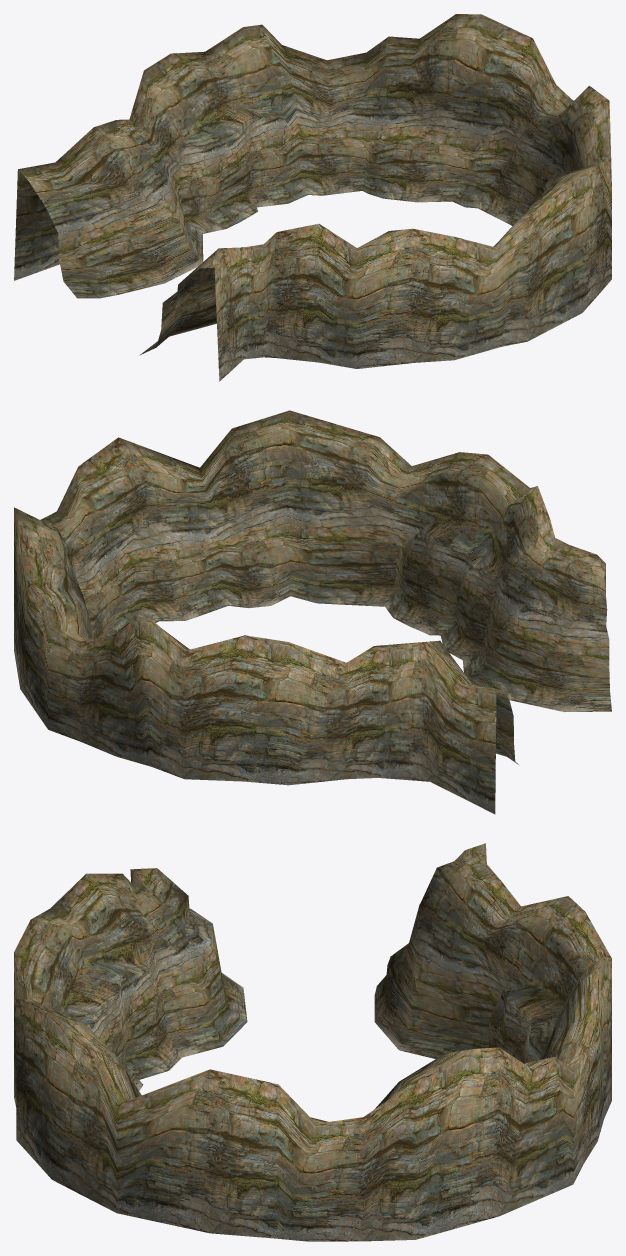
File: DN_lv6_zzstone.FBX
3 renders of one model, top to bottom at view 1: azimuth 30°, elevation 25°; view 2: azimuth 150°, elevation 25°; view 3: azimuth 270°, elevation 25°, orthographic. The views are drawn at different scales.
Visible parts, largest first — view 1: DN_lv6_zzstone; view 2: DN_lv6_zzstone; view 3: DN_lv6_zzstone.
Part boxes in pixels (x1,y1,x2,y2): DN_lv6_zzstone: (14, 14, 611, 381); DN_lv6_zzstone: (14, 410, 611, 814); DN_lv6_zzstone: (14, 843, 611, 1241).
Bounding box in the file's own units: 4592 × 1447 × 4145.
